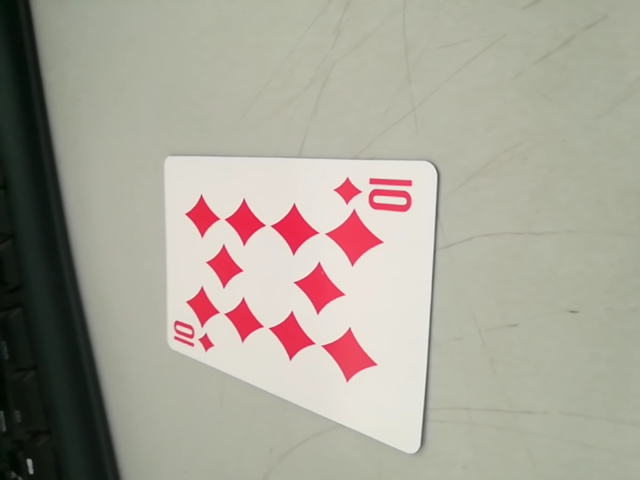fk 10: (334, 171, 420, 216), (166, 320, 217, 359)
